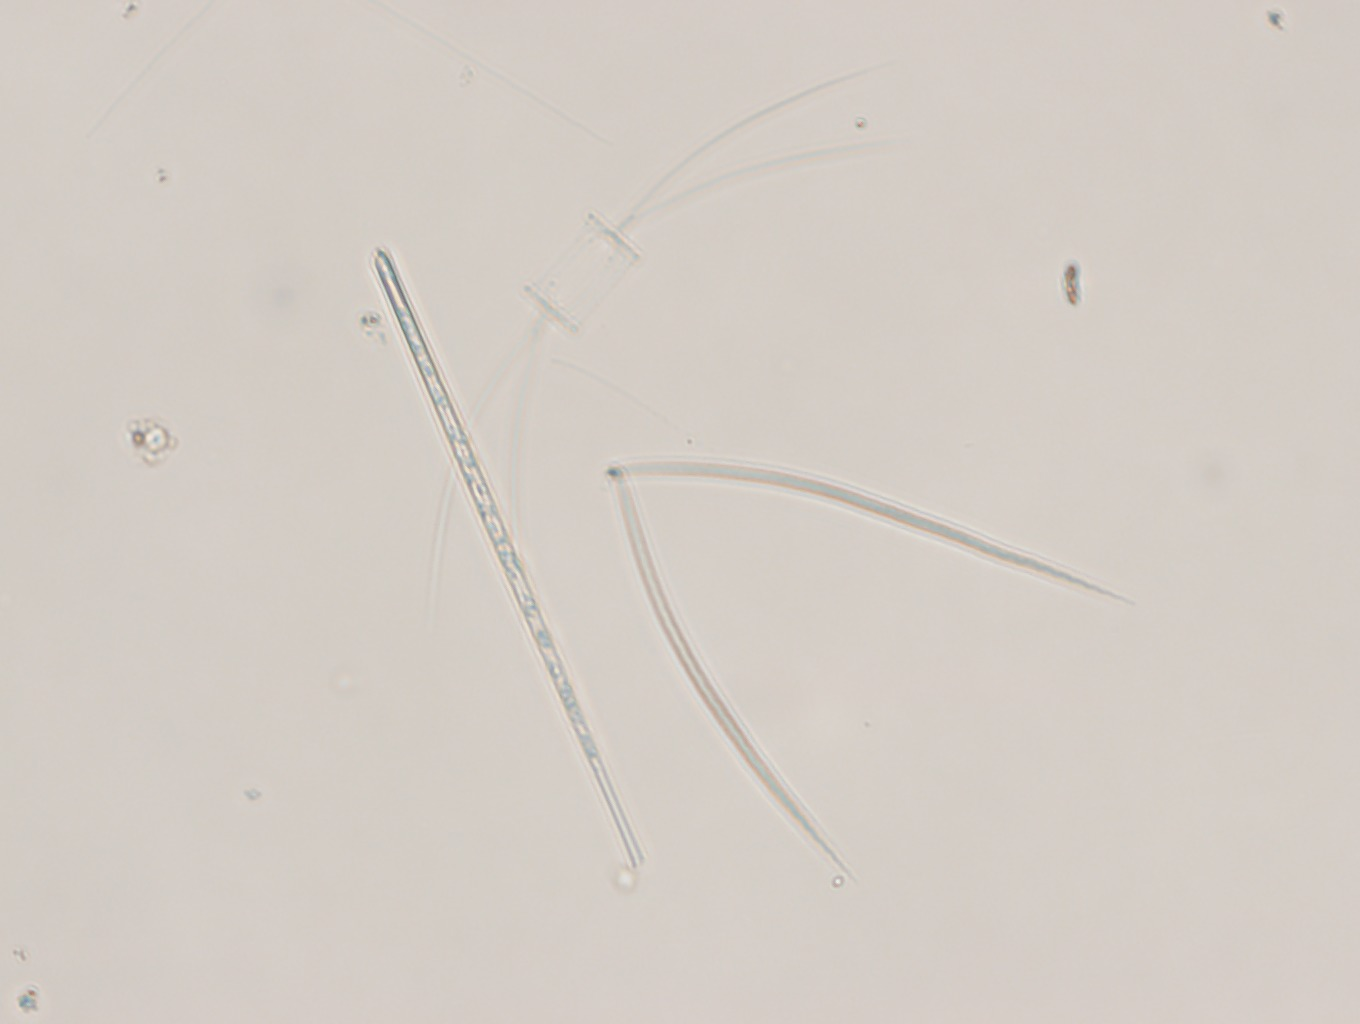chaetoceros: (430, 59, 924, 614)
